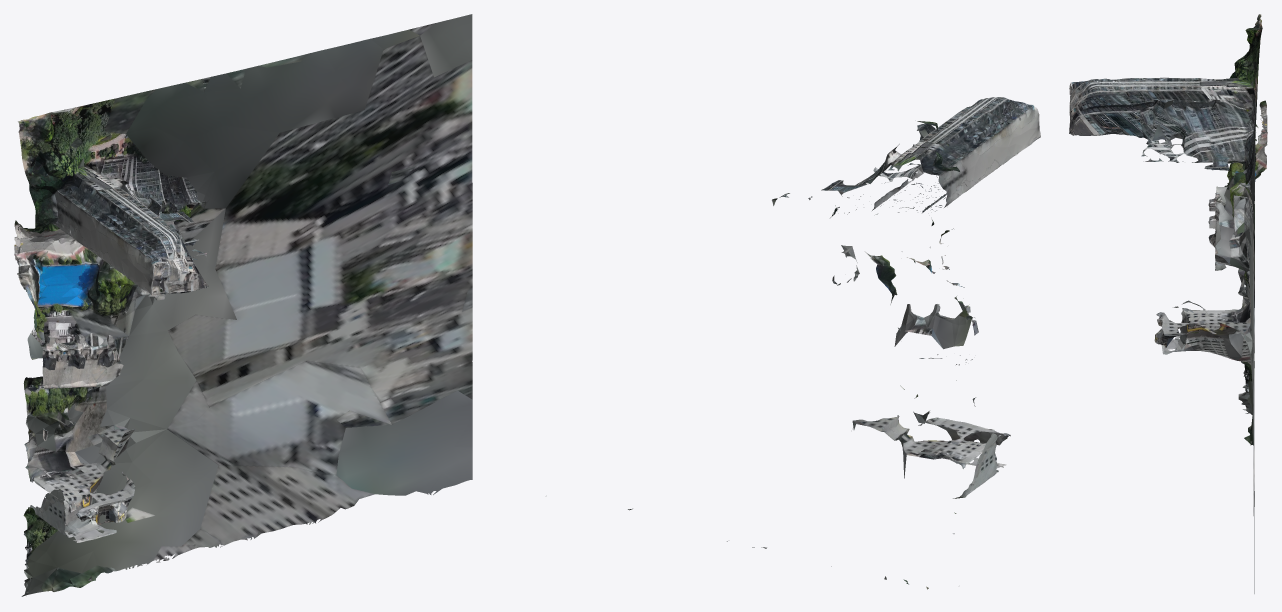
Rendered from Tile_+003_+001.glb.
3 renders of one model, left to right at view 1: azimuth 30°, elevation 25°; view 2: azimuth 150°, elevation 25°; view 3: azimuth 270°, elevation 25°, orthographic. The views are drawn at different scales.
Parts seen in each view (by area): view 1: Node; view 2: Node; view 3: Node.
Boxes of the visible parts, left/top/right/bottom form: Node: left=14, top=14, right=472, bottom=596; Node: left=628, top=97, right=1040, bottom=589; Node: left=1069, top=14, right=1267, bottom=593.
Bounding box in the file's own units: 200 × 200 × 89.88.
Materials: 1 (1 with a texture image).
